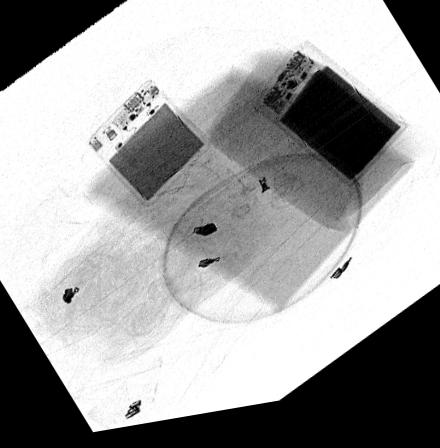Powerbank: (252, 48, 408, 199), (84, 81, 211, 211)
